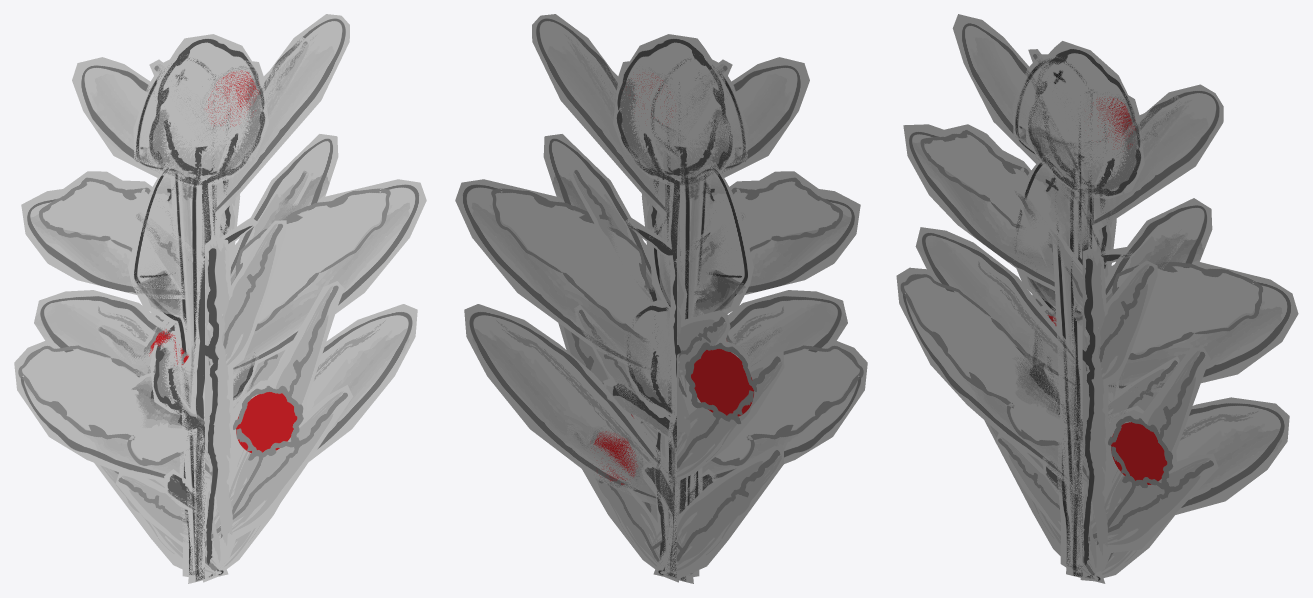
Rendered from BGPlanes.fbx.
The picture shows the model from 3 angles, left to right: view 1: azimuth 30°, elevation 25°; view 2: azimuth 150°, elevation 25°; view 3: azimuth 330°, elevation 25°; orthographic projection. The views are drawn at different scales.
Visible parts, largest first — view 1: Plant01_MDL, Plant02_MDL, Dandelion01_MDL, Plant03_MDL, Mushroom01_MDL, Mushroom02_MDL, Dandelion02_MDL; view 2: Plant01_MDL, Dandelion01_MDL, Plant02_MDL, Plant03_MDL, Mushroom01_MDL, Mushroom02_MDL, Dandelion02_MDL; view 3: Plant01_MDL, Plant02_MDL, Dandelion01_MDL, Plant03_MDL, Mushroom01_MDL, Mushroom02_MDL, Dandelion02_MDL.
Part boxes in pixels (x1,y1,x2,y2): Plant01_MDL: (14,14,426,581); Plant02_MDL: (94,220,352,579); Dandelion01_MDL: (131,34,268,580); Plant03_MDL: (95,36,312,572); Mushroom01_MDL: (133,54,235,583); Mushroom02_MDL: (128,162,232,579); Dandelion02_MDL: (150,311,258,582); Plant01_MDL: (455,14,867,580); Dandelion01_MDL: (603,34,748,580); Plant02_MDL: (558,245,784,579); Plant03_MDL: (567,39,782,569); Mushroom01_MDL: (645,53,748,583); Mushroom02_MDL: (649,162,753,579); Dandelion02_MDL: (623,300,726,582); Plant01_MDL: (896,14,1298,581); Plant02_MDL: (984,248,1218,577); Dandelion01_MDL: (1011,41,1144,578); Plant03_MDL: (995,49,1188,578); Mushroom01_MDL: (1012,54,1113,583); Mushroom02_MDL: (1013,153,1105,577); Dandelion02_MDL: (1029,305,1123,581).
Size of the model in its own units: 236 by 301 by 7.31.
Materials: 4 (4 with a texture image).
